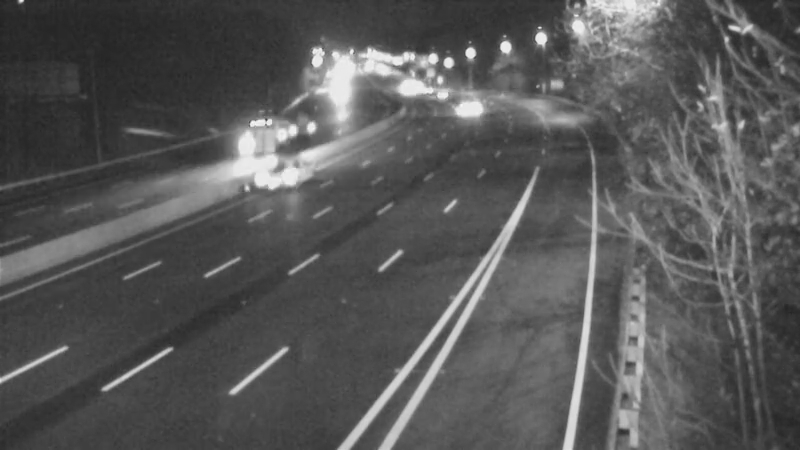vehicle: (246, 136, 326, 216), (401, 67, 451, 117), (416, 68, 466, 118), (440, 79, 490, 129), (224, 120, 274, 170)
